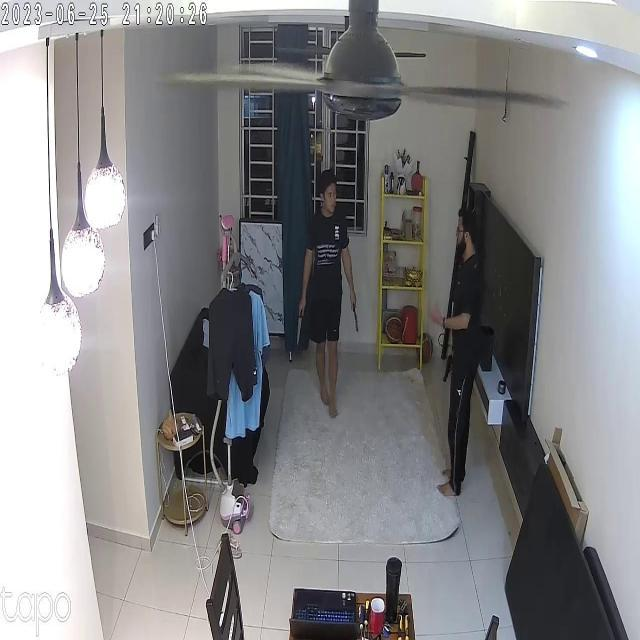Gun: (433, 352, 461, 384)
Knife: (342, 297, 370, 336), (292, 301, 310, 347)
